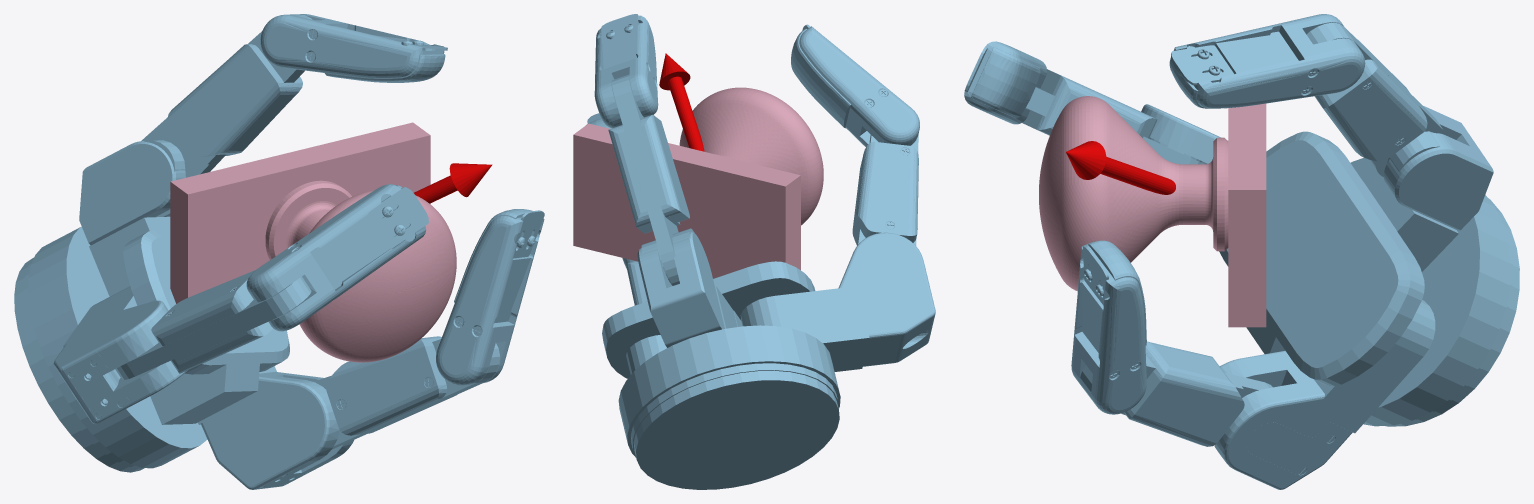
3 views of the same model, side by side, from view 1: azimuth 30°, elevation 25°; view 2: azimuth 150°, elevation 25°; view 3: azimuth 270°, elevation 25° (orthographic). The views are drawn at different scales.
Visible parts, largest first — view 1: world, door_knob.stl; view 2: world, door_knob.stl; view 3: world, door_knob.stl.
Boxes of the visible parts, left/top/right/bottom form: world: left=14, top=14, right=544, bottom=489; door_knob.stl: left=170, top=122, right=456, bottom=362; world: left=587, top=14, right=935, bottom=489; door_knob.stl: left=573, top=87, right=823, bottom=278; world: left=964, top=14, right=1519, bottom=489; door_knob.stl: left=1039, top=96, right=1266, bottom=327.
Bounding box in the file's own units: 0.1825 × 0.1779 × 0.1832.
